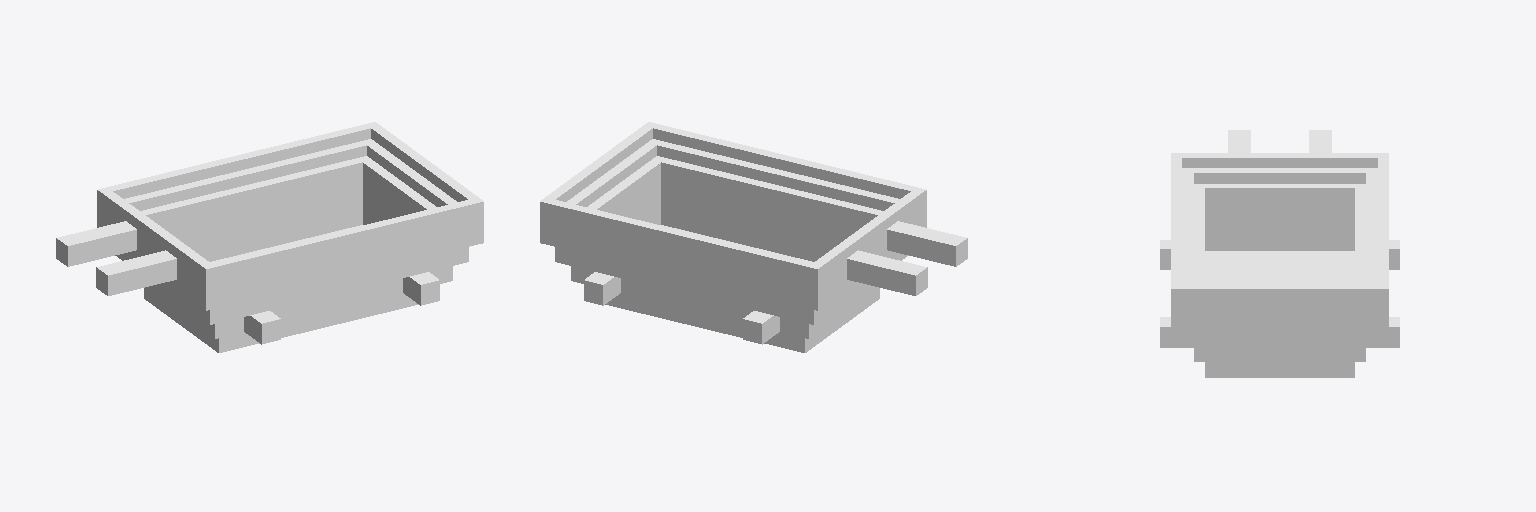
The model's file is carrinho1.obj.
3 renders of one model, left to right at view 1: azimuth 30°, elevation 25°; view 2: azimuth 150°, elevation 25°; view 3: azimuth 270°, elevation 25°, orthographic.
Visible parts, largest first — view 1: carrinho1; view 2: carrinho1; view 3: carrinho1.
Boxes of the visible parts, x1,y1,x2,y2 form: carrinho1: [56, 122, 483, 352]; carrinho1: [540, 122, 967, 352]; carrinho1: [1160, 130, 1399, 377].
Size of the model in its own units: 35 by 10 by 21.